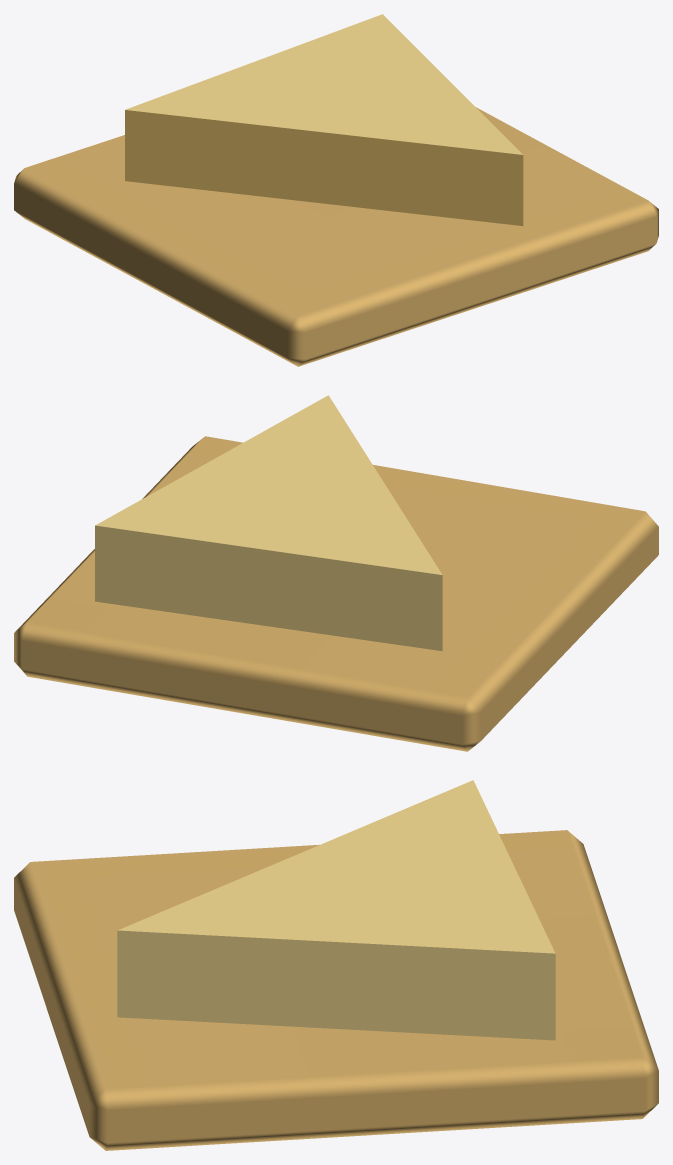
The model's file is biteCracker.glb.
The picture shows the model from 3 angles, top to bottom: view 1: azimuth 30°, elevation 25°; view 2: azimuth 150°, elevation 25°; view 3: azimuth 270°, elevation 25°; orthographic projection. The views are drawn at different scales.
Parts seen in each view (by area): view 1: biteCracker; view 2: biteCracker; view 3: biteCracker.
Boxes of the visible parts, bbox=[...] form: biteCracker: bbox=[14, 14, 658, 366]; biteCracker: bbox=[14, 395, 658, 751]; biteCracker: bbox=[14, 780, 658, 1150].
Bounding box in the file's own units: 0.0471 × 0.012 × 0.0471.
